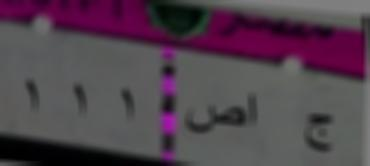1: (66, 78, 94, 132), (114, 81, 142, 128), (18, 73, 46, 120)
alif: (245, 90, 263, 130)
jeem: (296, 106, 335, 160)
saad: (183, 95, 244, 141)
